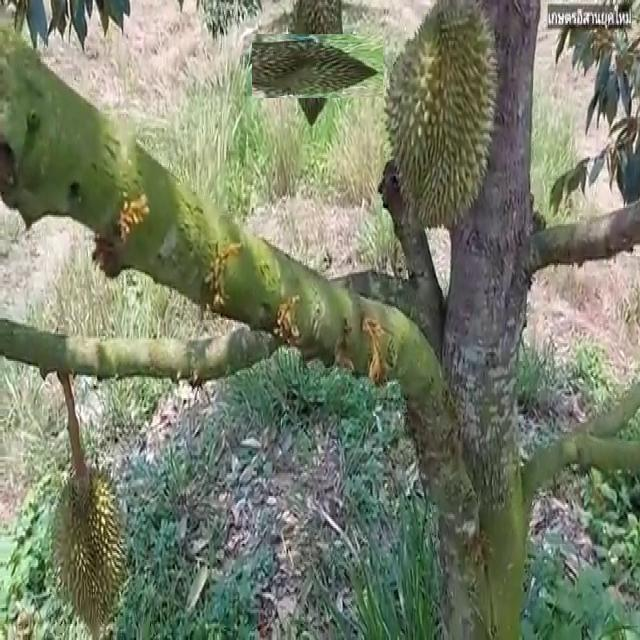durian: (381, 0, 504, 239), (44, 461, 133, 638), (268, 16, 366, 114)
